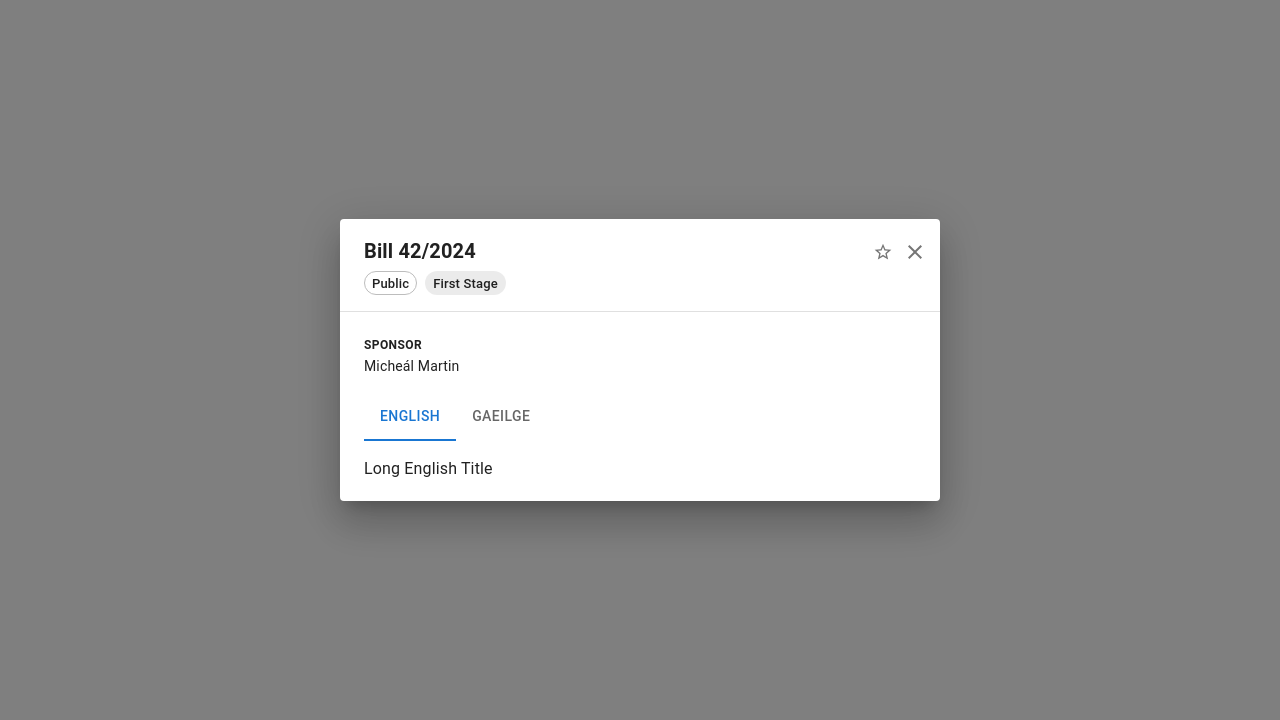
Test: BillModal › toggles favourite state when the favourite button is clicked
Click the button named "Add 42/2024 to favourites" at (883, 252), box [868, 238, 898, 268]
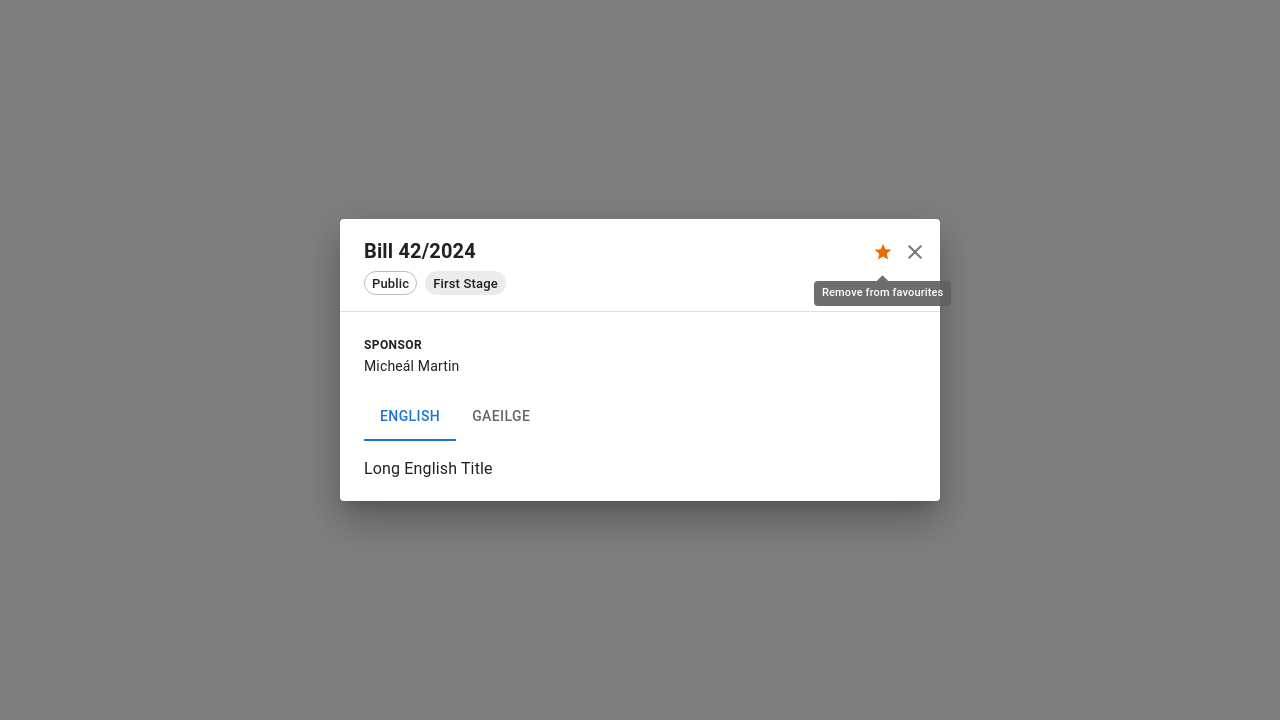
Expected: the button named "Remove 42/2024 from favourites" is shown, [868, 238, 898, 268]
